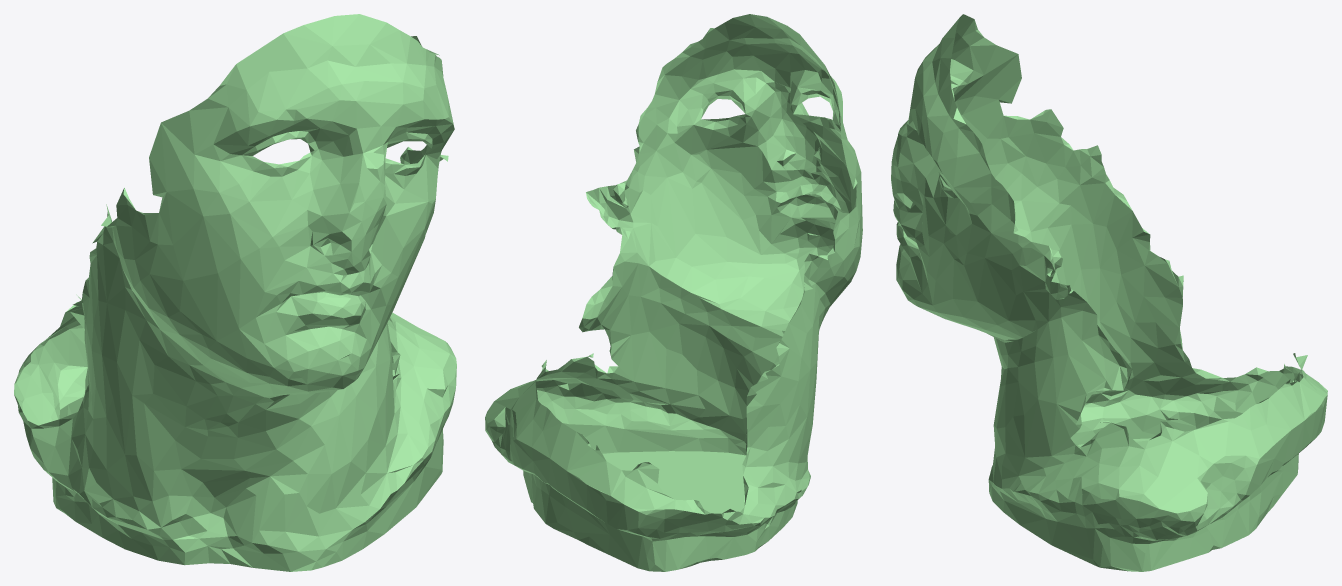
Rendered from stone_marble.obj.
The picture shows the model from 3 angles, left to right: view 1: azimuth 30°, elevation 25°; view 2: azimuth 150°, elevation 25°; view 3: azimuth 270°, elevation 25°; orthographic projection. The views are drawn at different scales.
Parts seen in each view (by area): view 1: stone_marble_stone_marble_helios_20140908_Alexander_as_Helios_by; view 2: stone_marble_stone_marble_helios_20140908_Alexander_as_Helios_by; view 3: stone_marble_stone_marble_helios_20140908_Alexander_as_Helios_by.
Boxes of the visible parts, box(x1,y1,x2,y2) form: stone_marble_stone_marble_helios_20140908_Alexander_as_Helios_by: box(14, 14, 456, 571); stone_marble_stone_marble_helios_20140908_Alexander_as_Helios_by: box(485, 14, 862, 571); stone_marble_stone_marble_helios_20140908_Alexander_as_Helios_by: box(891, 14, 1327, 571).
Size of the model in its own units: 55.74 by 76.36 by 65.15.
